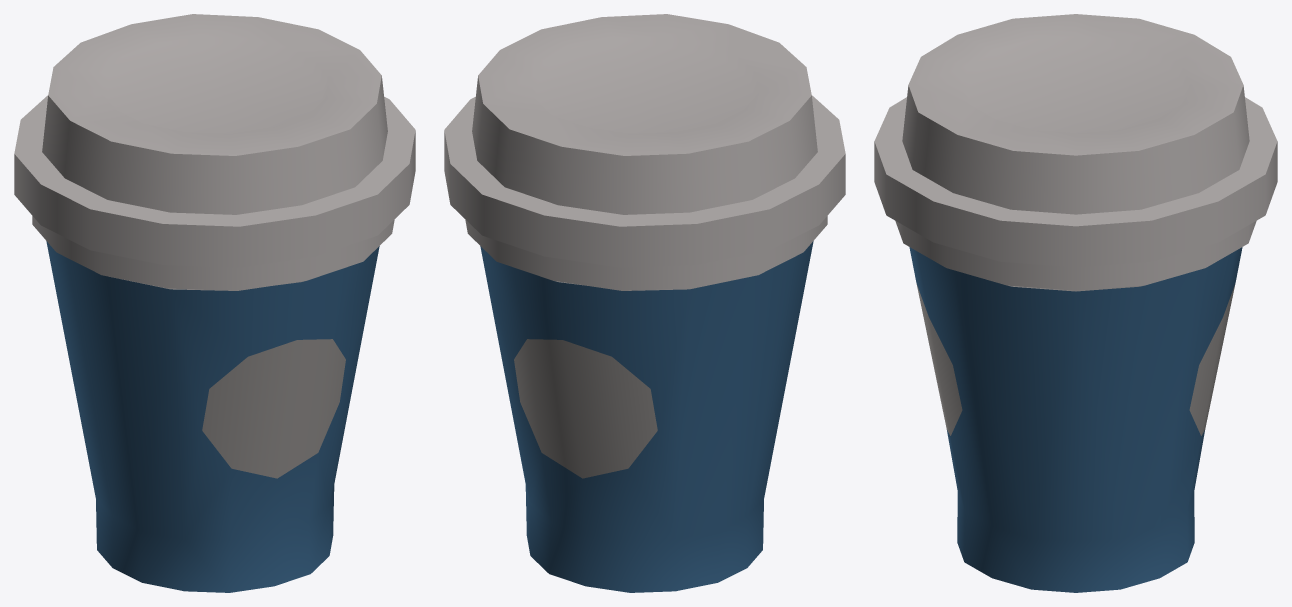
Rendered from SM_Prop_Cup_Coffee_Disposable_Closed_01.obj.
The picture shows the model from 3 angles, left to right: view 1: azimuth 30°, elevation 25°; view 2: azimuth 150°, elevation 25°; view 3: azimuth 270°, elevation 25°; orthographic projection.
Parts seen in each view (by area): view 1: SM_Prop_Cup_Coffee_Disposable_Closed_01_Mat_SwatchOverlay_Polygo; view 2: SM_Prop_Cup_Coffee_Disposable_Closed_01_Mat_SwatchOverlay_Polygo; view 3: SM_Prop_Cup_Coffee_Disposable_Closed_01_Mat_SwatchOverlay_Polygo.
Part boxes in pixels (left/top/right/bottom): SM_Prop_Cup_Coffee_Disposable_Closed_01_Mat_SwatchOverlay_Polygo: left=14, top=14, right=415, bottom=592; SM_Prop_Cup_Coffee_Disposable_Closed_01_Mat_SwatchOverlay_Polygo: left=444, top=14, right=845, bottom=592; SM_Prop_Cup_Coffee_Disposable_Closed_01_Mat_SwatchOverlay_Polygo: left=874, top=14, right=1277, bottom=592.
Bounding box in the file's own units: 0.1798 × 0.2254 × 0.1798.
1 material, 1 textured.
